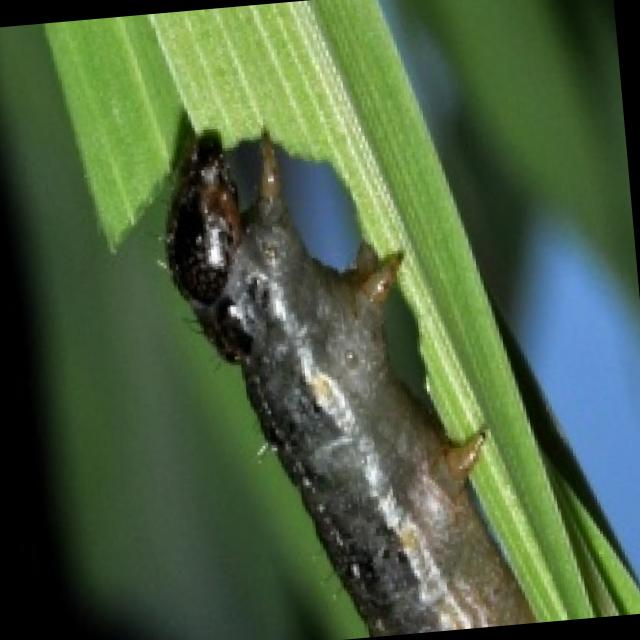armyworm: (123, 95, 551, 640)
